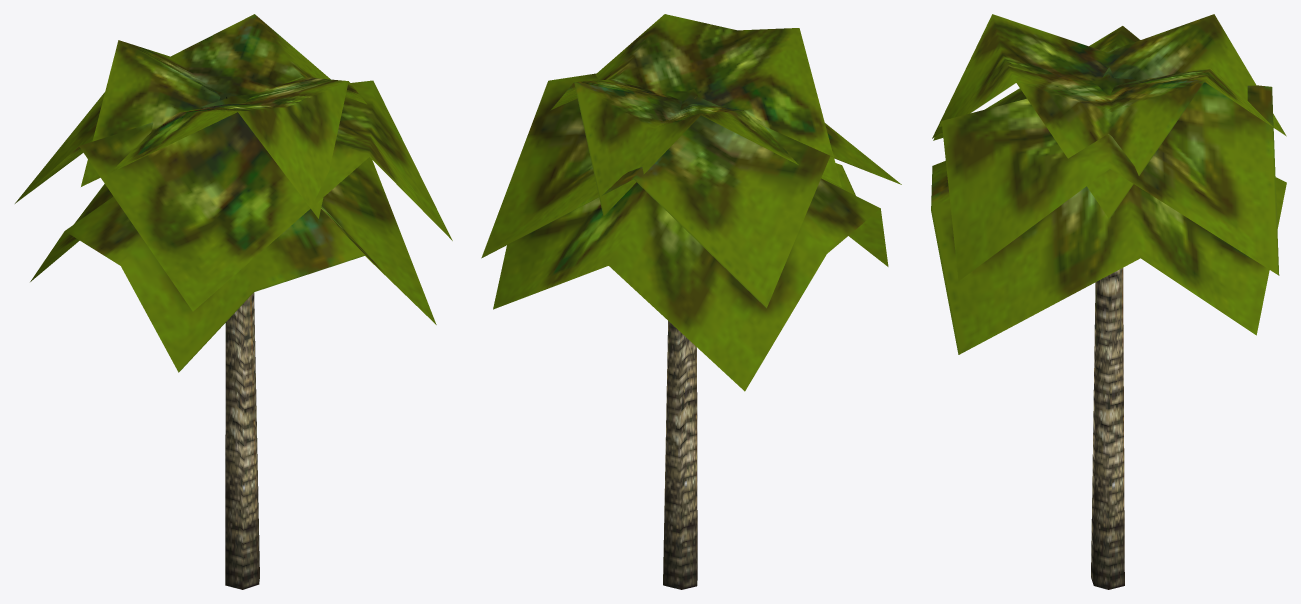
File: idle.glb
3 renders of one model, left to right at view 1: azimuth 30°, elevation 25°; view 2: azimuth 150°, elevation 25°; view 3: azimuth 270°, elevation 25°, orthographic.
Visible parts, largest first — view 1: MeshRoot; view 2: MeshRoot; view 3: MeshRoot.
Boxes of the visible parts, x1,y1,x2,y2 form: MeshRoot: (15,14,452,589); MeshRoot: (481,14,901,589); MeshRoot: (931,14,1286,589).
Bounding box in the file's own units: 3.96 × 6.56 × 3.95.
Materials: 1 (1 with a texture image).
